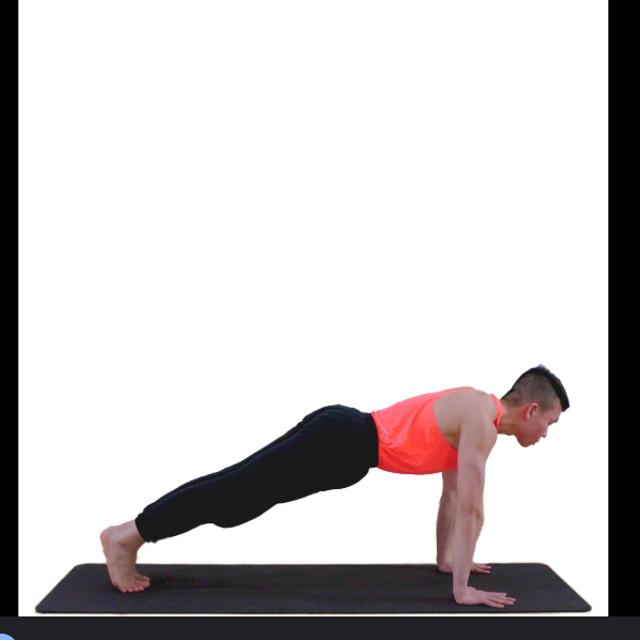Plank_Pose: (95, 363, 578, 617)
